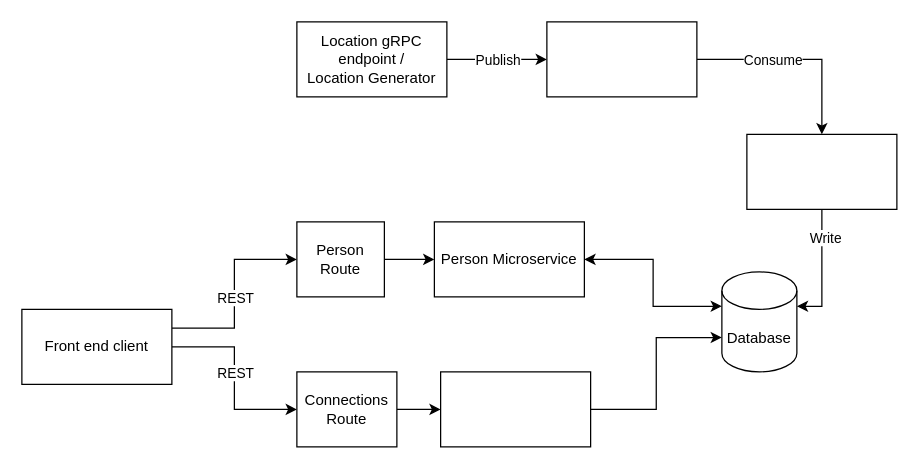
This 919x469 diagram has some shape labels left out. Each missing label, with the centre of its shape:
"Connection Microservice" belongs at (515,409).
"Kafka Topic" belongs at (621,59).
"Location Ingestor" belongs at (821,171).
